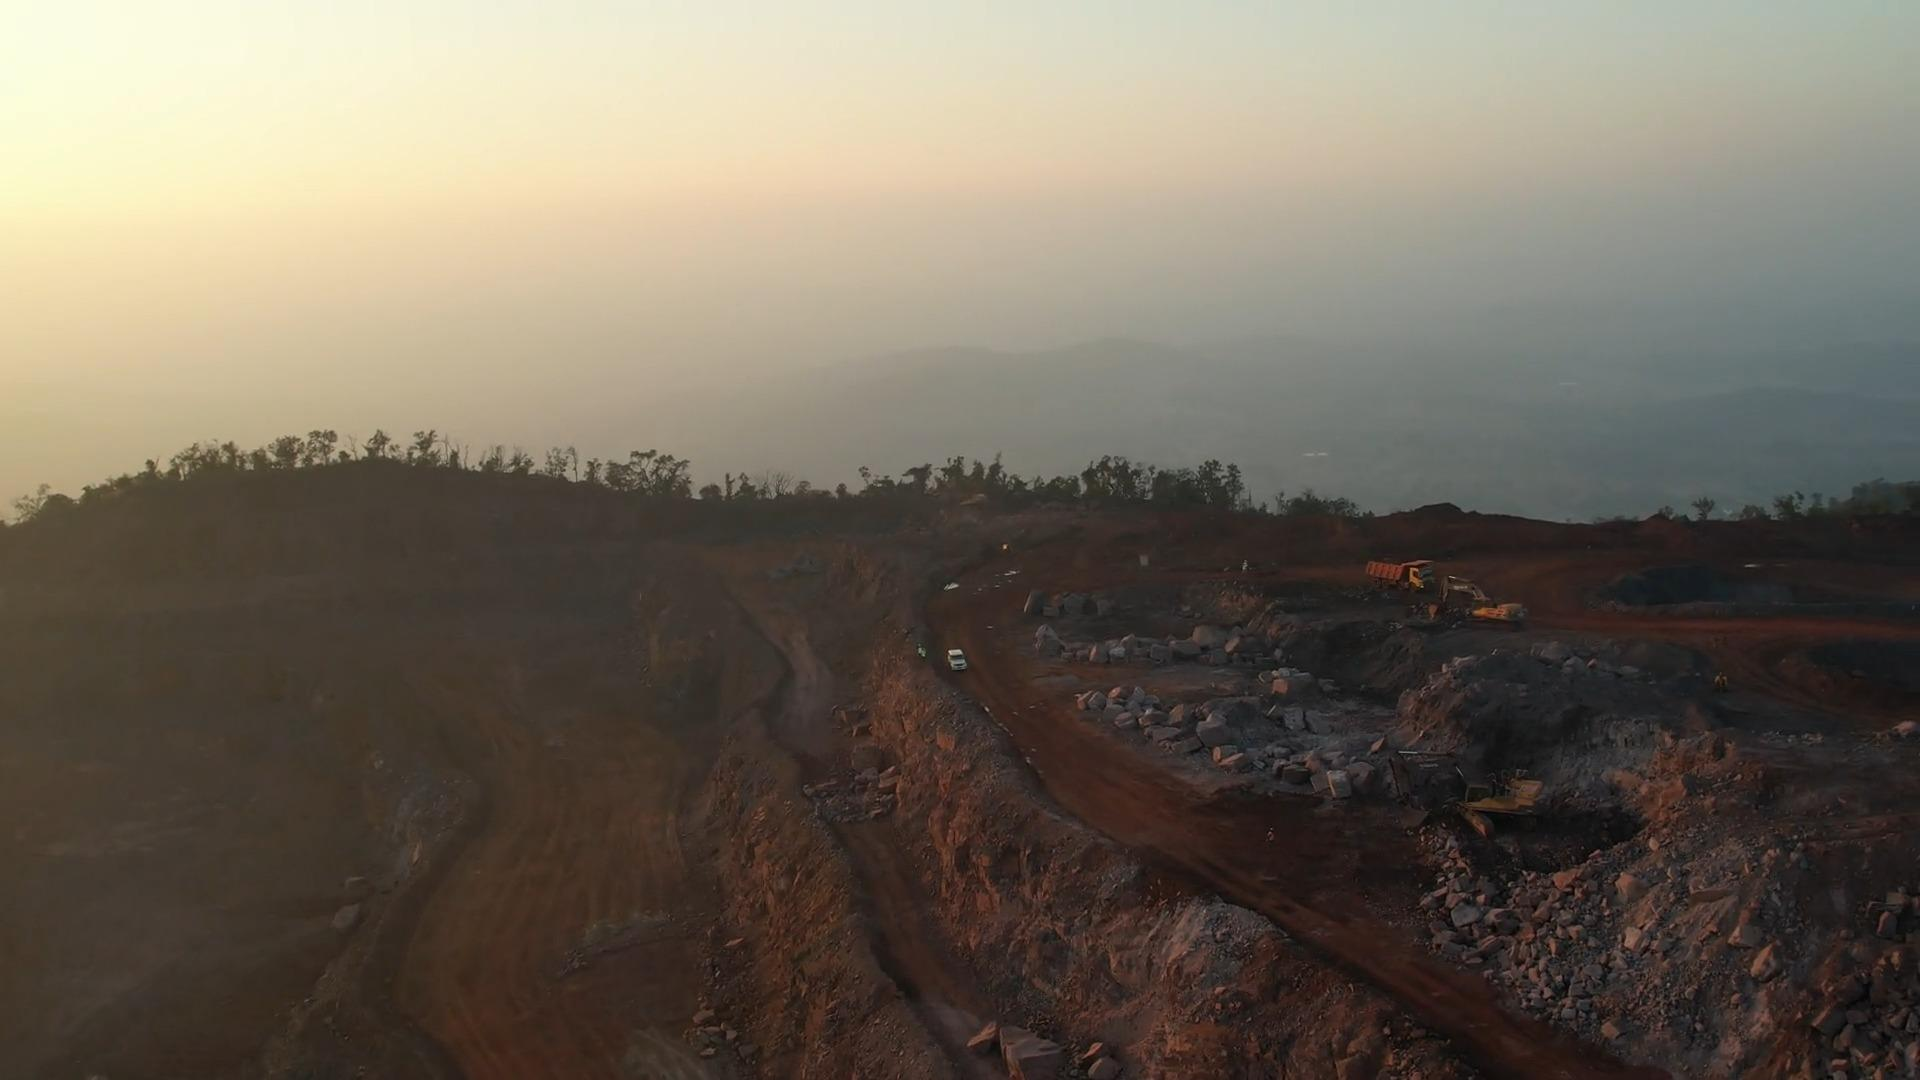excavator: (1386, 749, 1547, 831), (1433, 575, 1531, 625)
